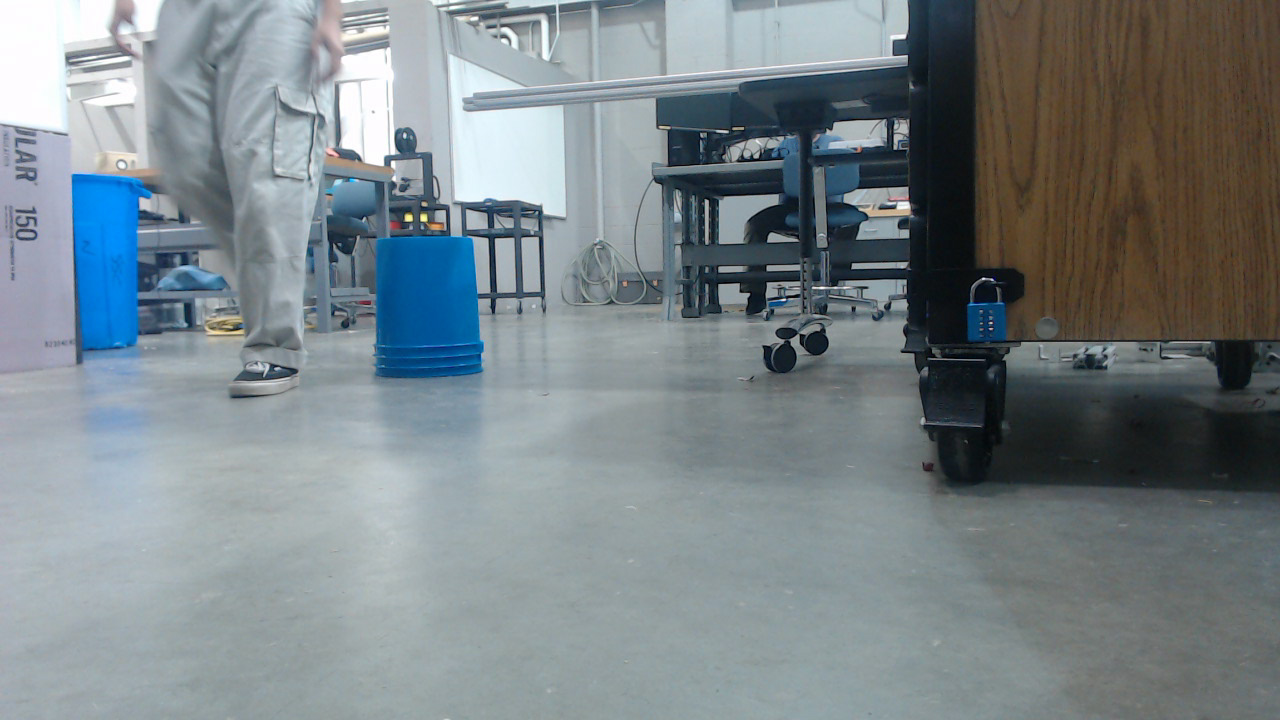blue_bucket: (377, 240, 491, 383)
